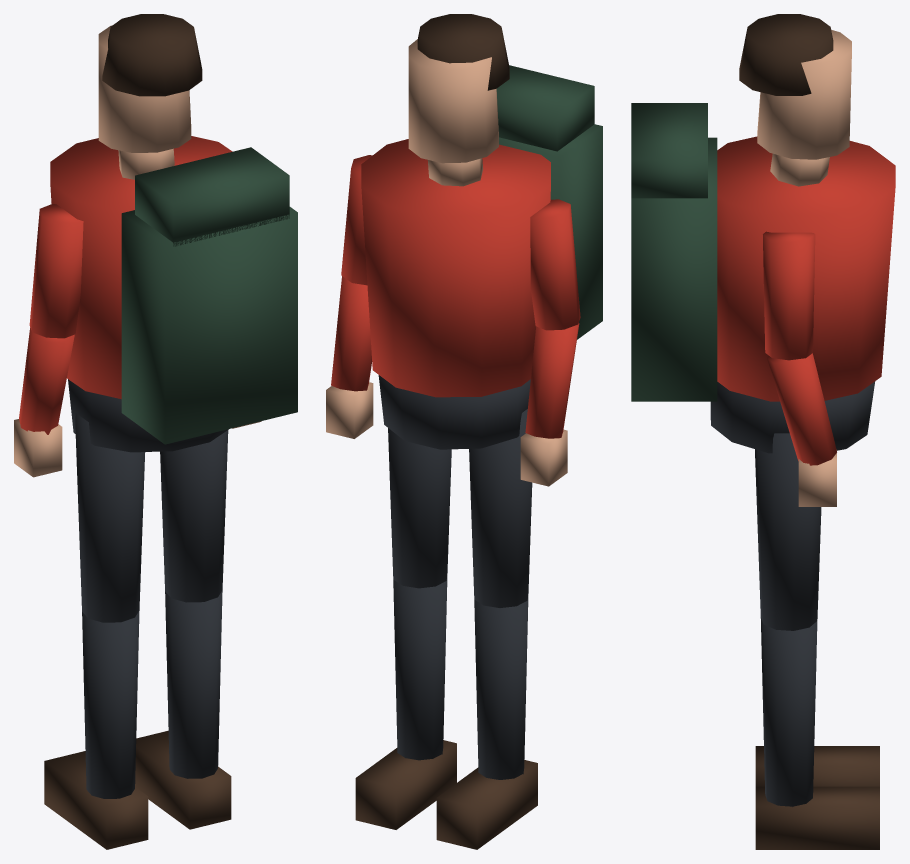
Rendered from person-stand.glb.
The picture shows the model from 3 angles, left to right: view 1: azimuth 30°, elevation 25°; view 2: azimuth 150°, elevation 25°; view 3: azimuth 270°, elevation 25°; orthographic projection. The views are drawn at different scales.
Visible parts, largest first — view 1: person-stand; view 2: person-stand; view 3: person-stand.
Boxes of the visible parts, x1,y1,x2,y2 form: person-stand: (14, 14, 297, 849); person-stand: (326, 14, 602, 849); person-stand: (631, 14, 895, 849).
Bounding box in the file's own units: 0.5793 × 1.82 × 0.5528.
